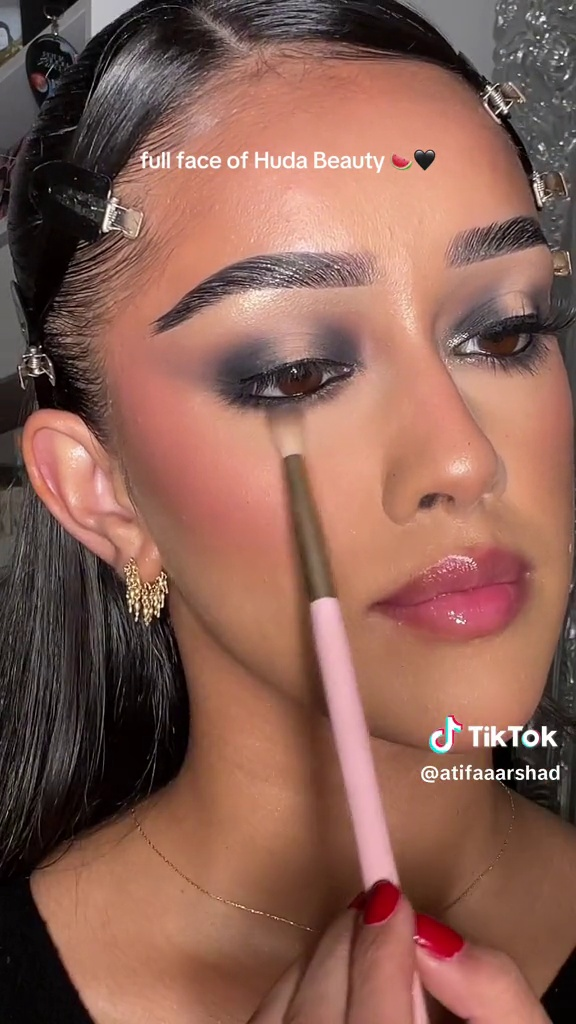train' :'yolo_data/train/images',: (243, 393, 436, 1023)
